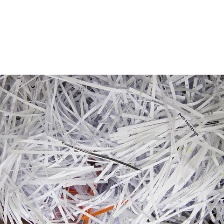news_paper: (0, 73, 224, 223)
